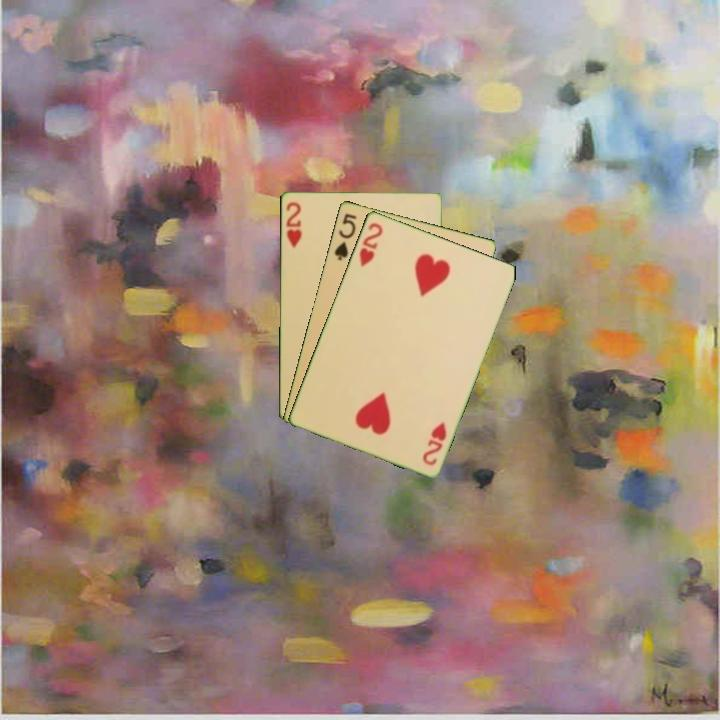2h: (355, 219, 385, 269), (419, 418, 449, 468), (282, 198, 304, 250)
5s: (330, 210, 360, 263)
